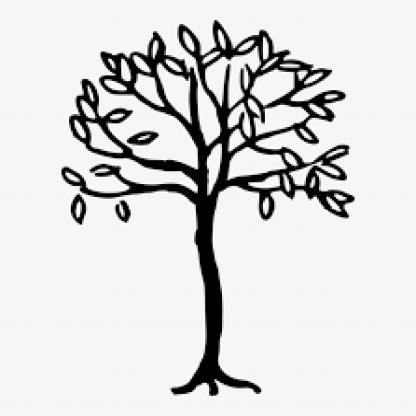branch_line: (65, 17, 357, 236)
root_only: (161, 368, 264, 405)
trunk_straight: (194, 257, 232, 339)
